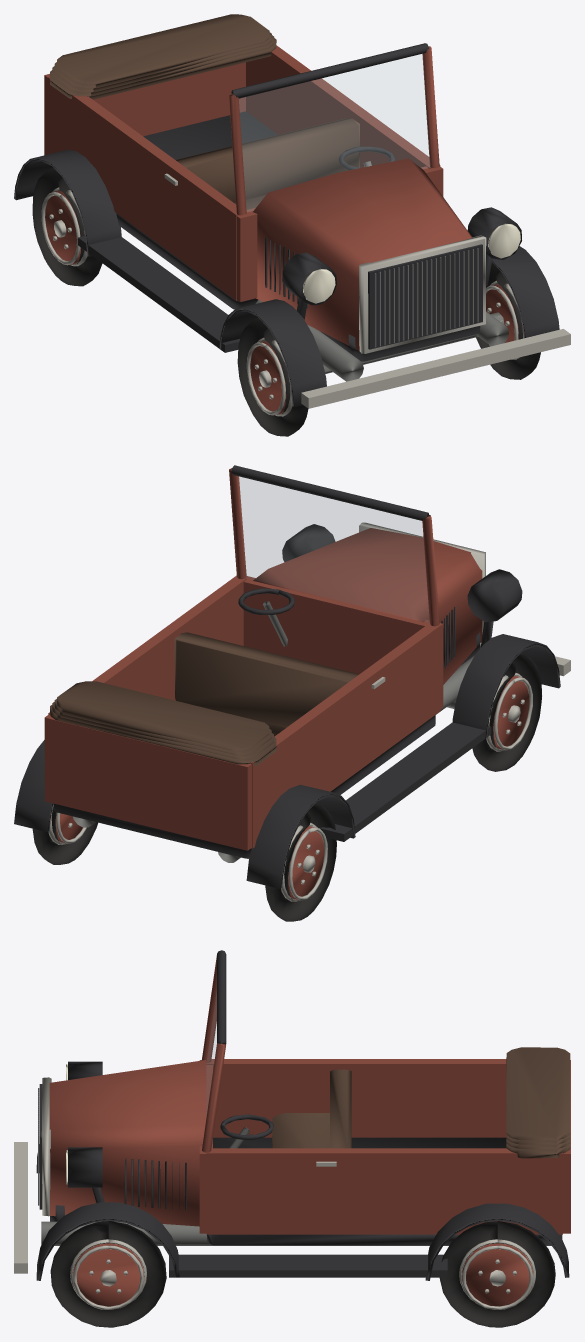
File: offener_zweisitzer.glb
3 views of the same model, one above another, from view 1: azimuth 30°, elevation 25°; view 2: azimuth 150°, elevation 25°; view 3: azimuth 270°, elevation 25° (orthographic). The views are drawn at different scales.
Parts seen in each view (by area): view 1: Modell, Tuer_R, Vorn_R, Hinten_R, Vorn_L, Tuer_L; view 2: Modell, Tuer_R, Hinten_R, Vorn_R, Tuer_L, Hinten_L; view 3: Modell, Tuer_L, Vorn_L, Hinten_L, Tuer_R.
Boxes of the visible parts, x1,y1,x2,y2 form: Modell: [14, 14, 570, 408]; Tuer_R: [152, 151, 235, 292]; Vorn_R: [237, 318, 308, 436]; Hinten_R: [32, 167, 102, 286]; Vorn_L: [476, 262, 540, 379]; Tuer_L: [346, 104, 429, 167]; Modell: [14, 465, 570, 888]; Tuer_R: [346, 631, 429, 772]; Hinten_R: [265, 803, 336, 921]; Vorn_R: [472, 653, 541, 771]; Tuer_L: [153, 583, 236, 700]; Hinten_L: [32, 805, 97, 864]; Modell: [14, 950, 570, 1280]; Tuer_L: [226, 1148, 365, 1234]; Vorn_L: [50, 1221, 166, 1327]; Hinten_L: [439, 1221, 555, 1327]; Tuer_R: [226, 1059, 365, 1137].
Bounding box in the file's own units: 1.43 × 1.51 × 2.73.
